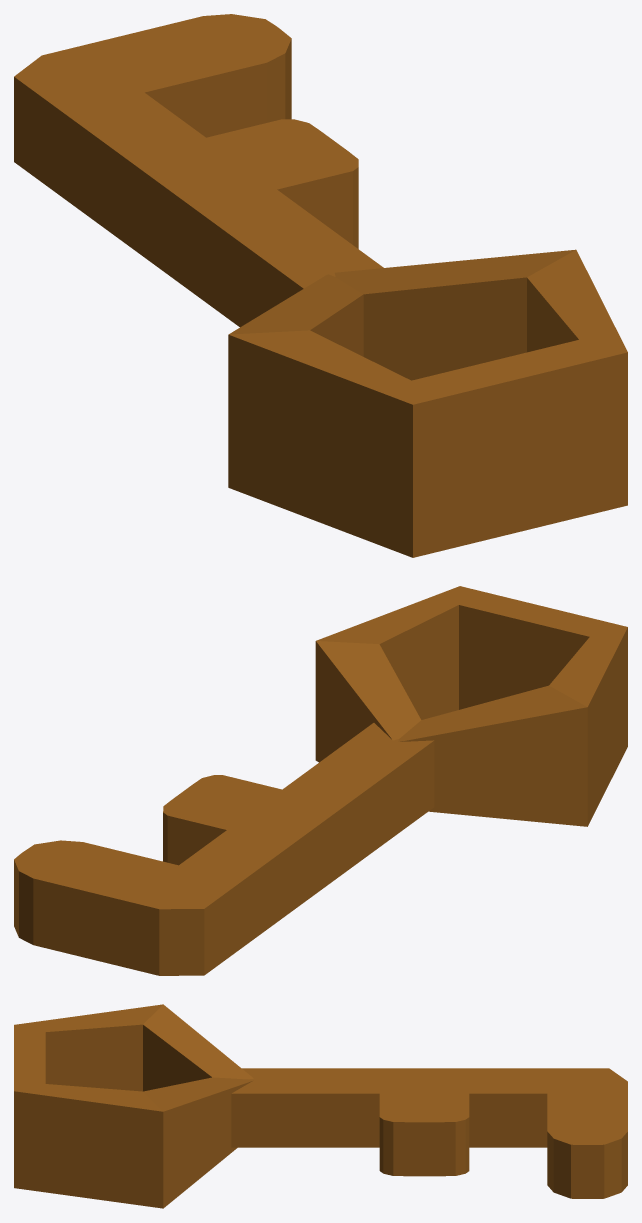
Rendered from Key.glb.
3 renders of one model, top to bottom at view 1: azimuth 30°, elevation 25°; view 2: azimuth 150°, elevation 25°; view 3: azimuth 270°, elevation 25°, orthographic. The views are drawn at different scales.
Parts seen in each view (by area): view 1: Key.001; view 2: Key.001; view 3: Key.001.
Boxes of the visible parts, x1=… form: Key.001: x1=14, y1=14, x2=627, y2=557; Key.001: x1=14, y1=586, x2=627, y2=975; Key.001: x1=14, y1=1004, x2=627, y2=1208.
Size of the model in its own units: 0.1042 by 0.0395 by 0.2266.
